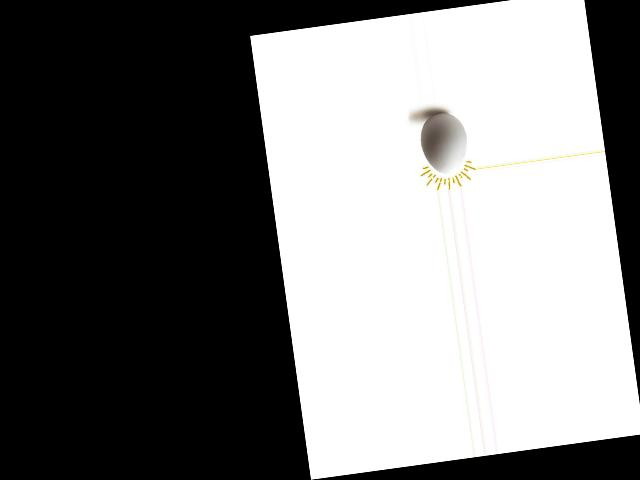egg: (417, 110, 471, 176)
